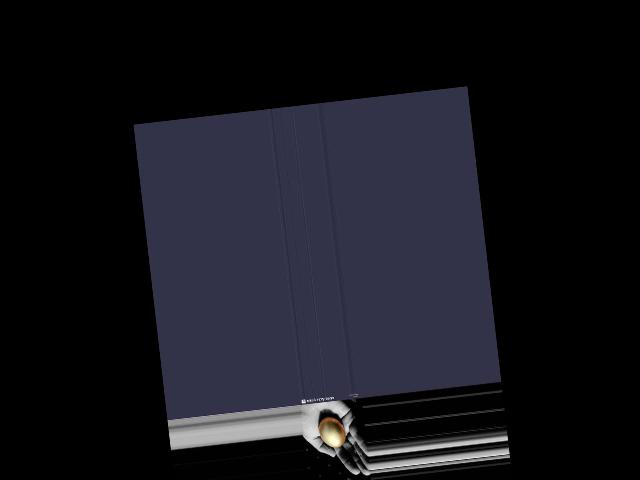egg: (318, 415, 347, 449)
